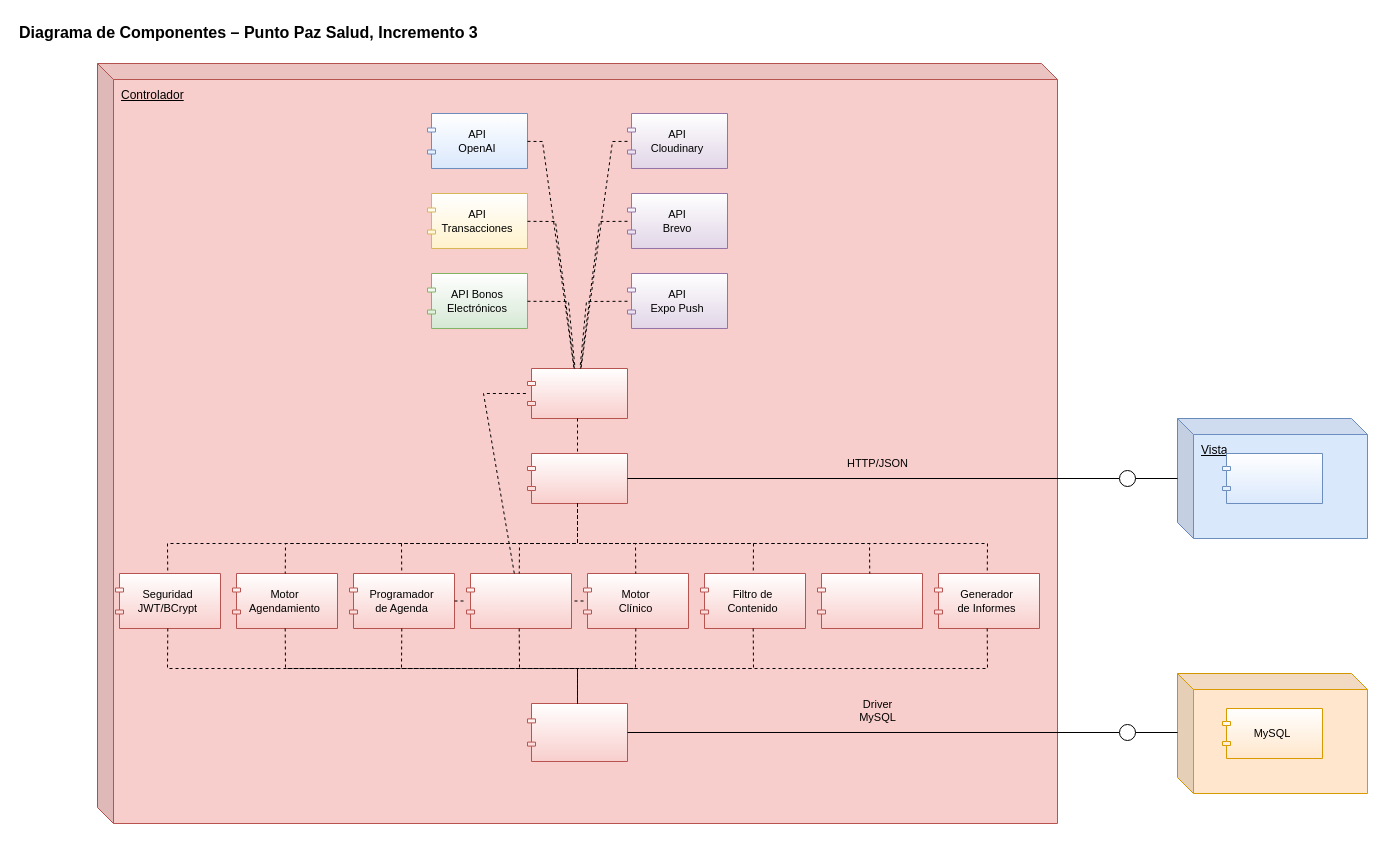
Image size: 1385x841. Some labels were removed from this diagram. Here are the shapes that lost their labels. From the top down, the box of each, then its label:
(526, 368, 628, 418): API Adapter
(526, 452, 628, 504): API REST
(1222, 452, 1322, 504): Cliente Móvil
(466, 572, 572, 628): Despachador de Notificaciones
(816, 572, 922, 628): Cifrado de Mensajería
(526, 702, 628, 762): Capa de Acceso a Datos
(1176, 672, 1368, 794): Bases de Datos
